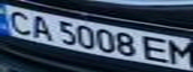0: (93, 26, 118, 54), (75, 22, 96, 51)
5: (51, 18, 78, 47)
8: (115, 29, 142, 58)
A: (27, 12, 57, 42)
C: (3, 7, 36, 35)
E: (139, 34, 175, 63)
M: (163, 38, 193, 66)
